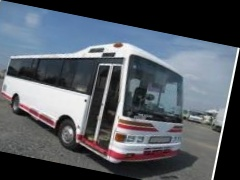bus: (0, 21, 199, 176)
